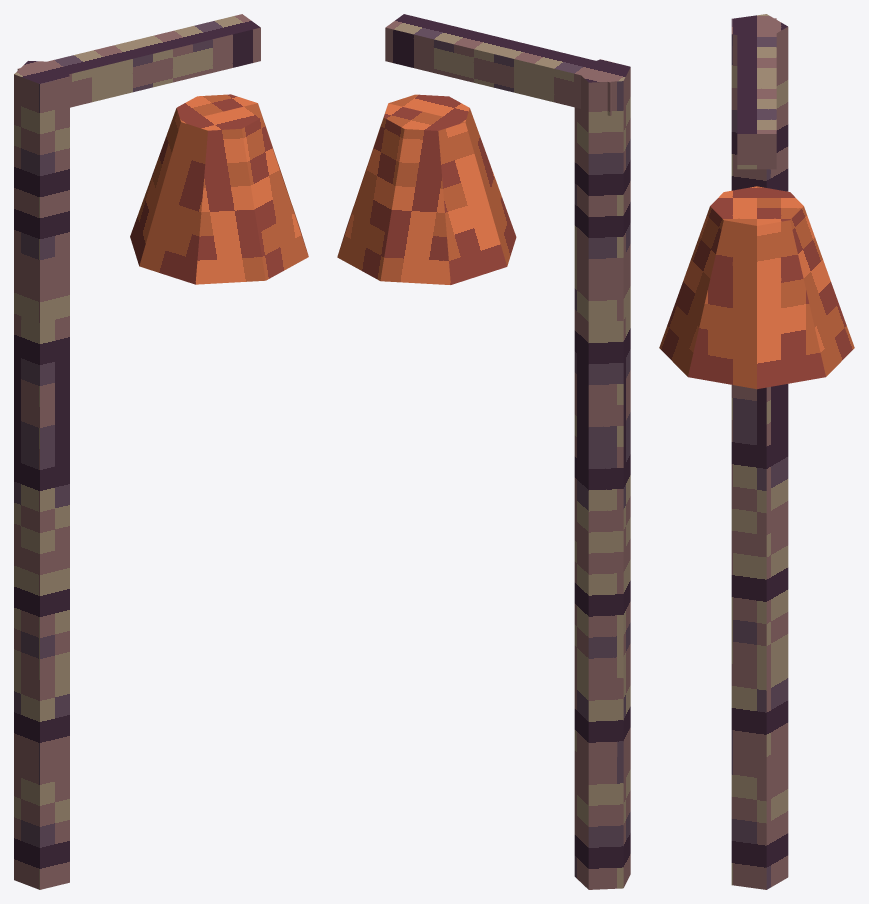
File: a09_sino_barco.glb
The picture shows the model from 3 angles, left to right: view 1: azimuth 30°, elevation 25°; view 2: azimuth 150°, elevation 25°; view 3: azimuth 270°, elevation 25°; orthographic projection. The views are drawn at different scales.
Parts seen in each view (by area): view 1: a09_sino_barco; view 2: a09_sino_barco; view 3: a09_sino_barco.
Part boxes in pixels (x1,y1,x2,y2): a09_sino_barco: (14,14,308,889); a09_sino_barco: (337,14,630,889); a09_sino_barco: (659,14,854,889).
Size of the model in its own units: 0.8761 by 2.4 by 0.5.
2 materials, 2 textured.
